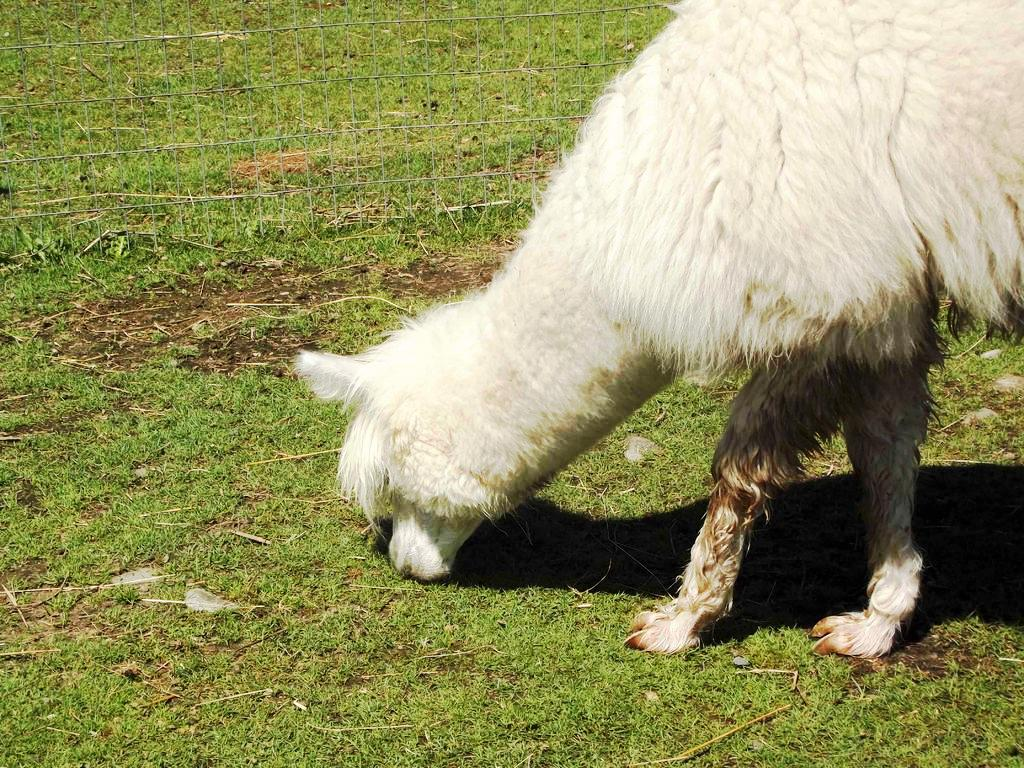Sheep: (294, 0, 1024, 659)
